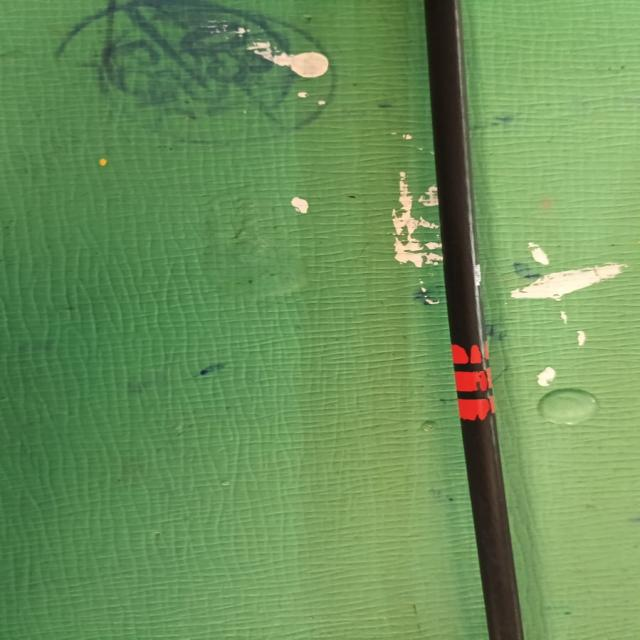red: (449, 344, 498, 422)
